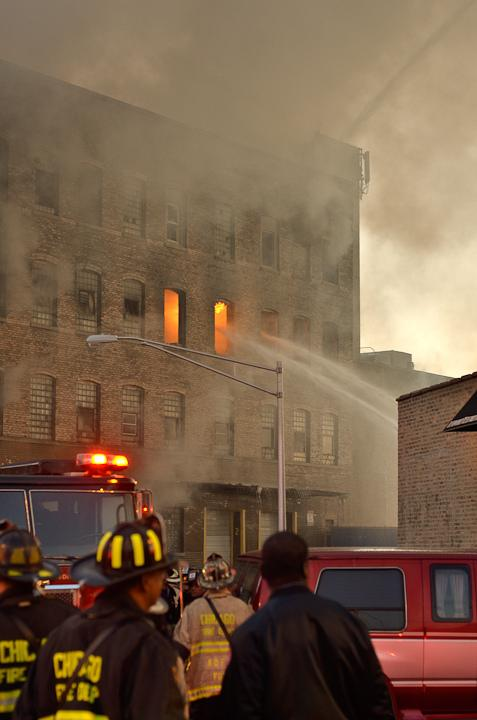fire: (158, 284, 178, 346), (214, 308, 228, 350)
smoke: (178, 4, 450, 128)
